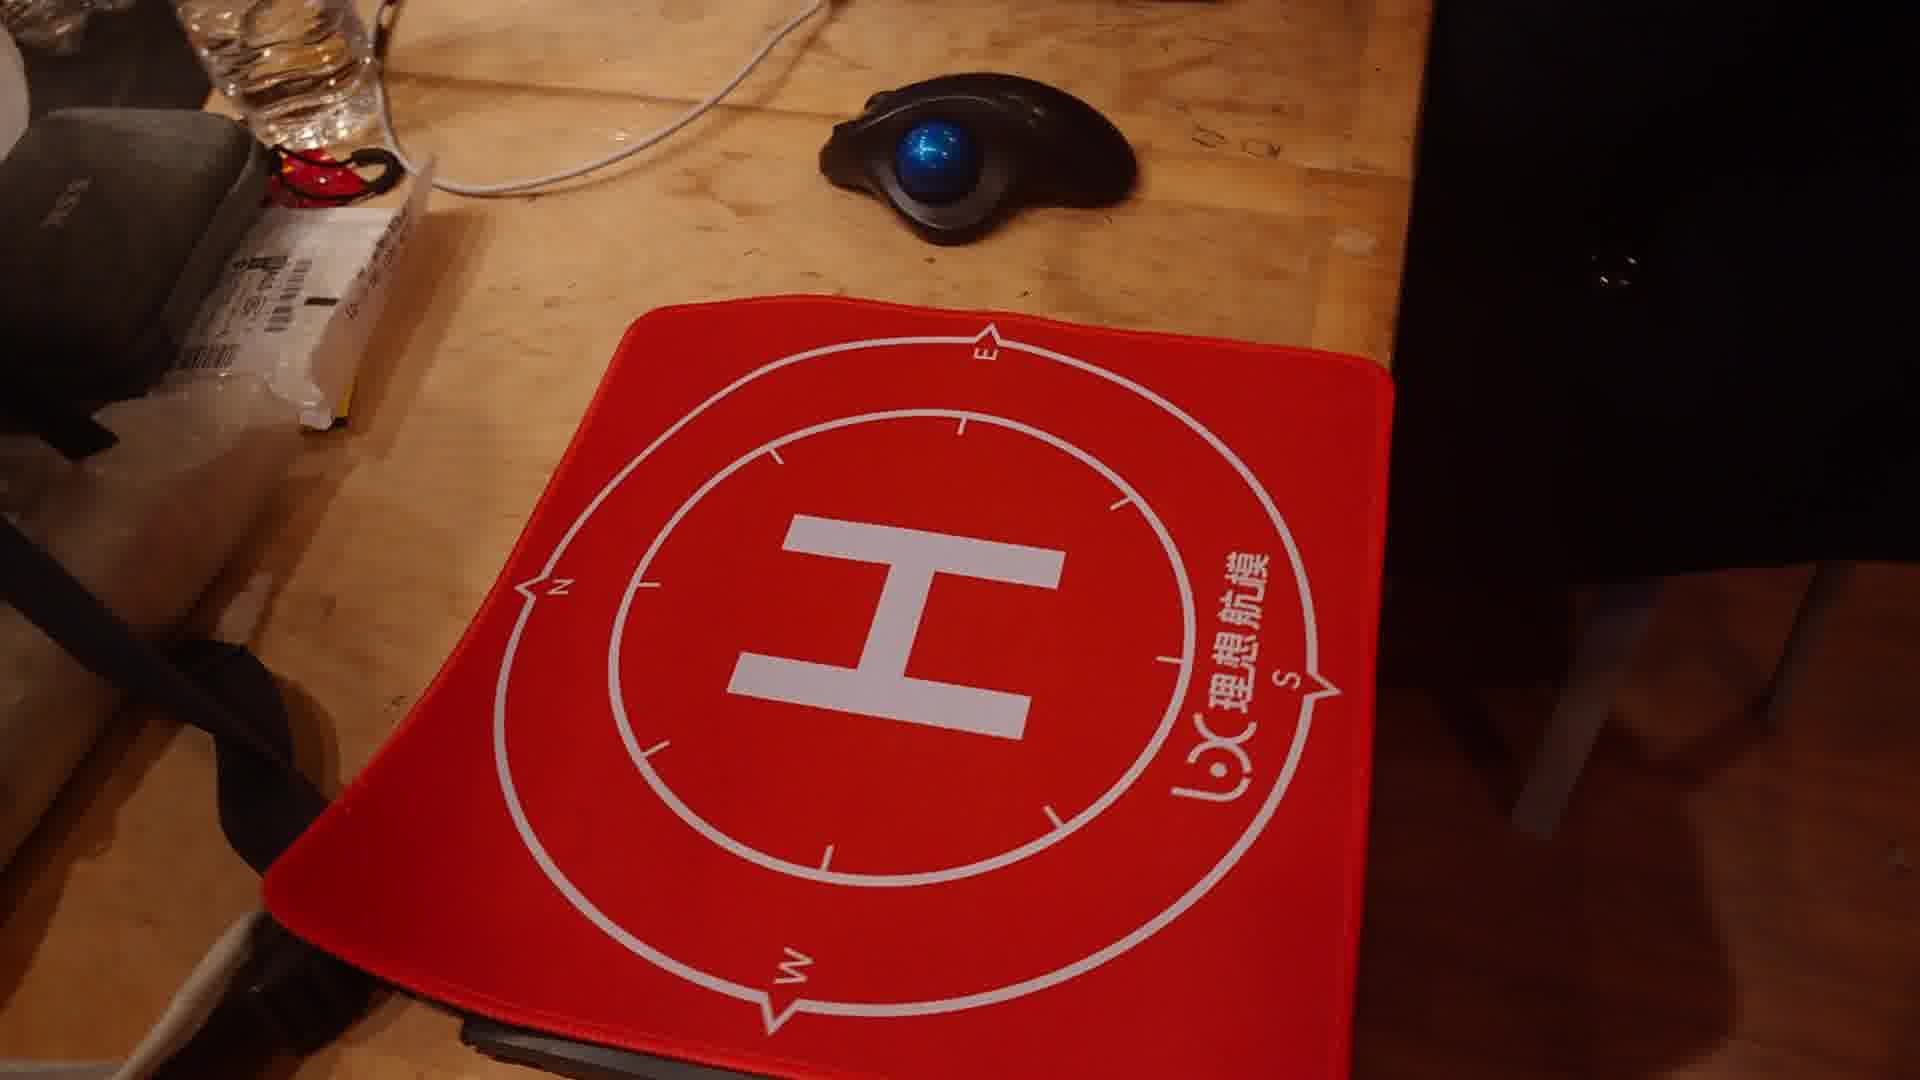H: (724, 512, 1068, 742)
